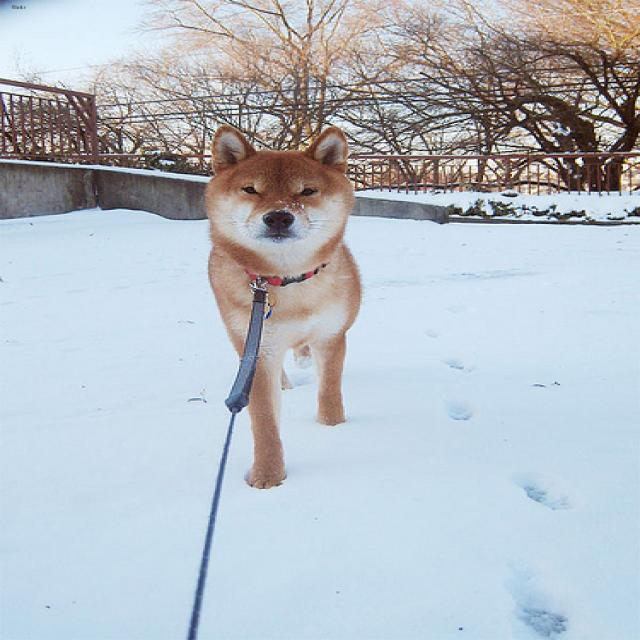dog-shiba_inu: (196, 114, 367, 502)
